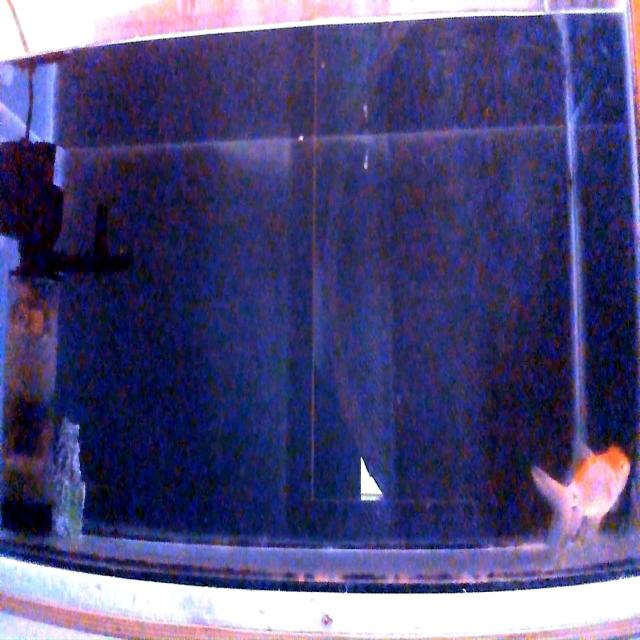fish: (532, 442, 631, 536)
